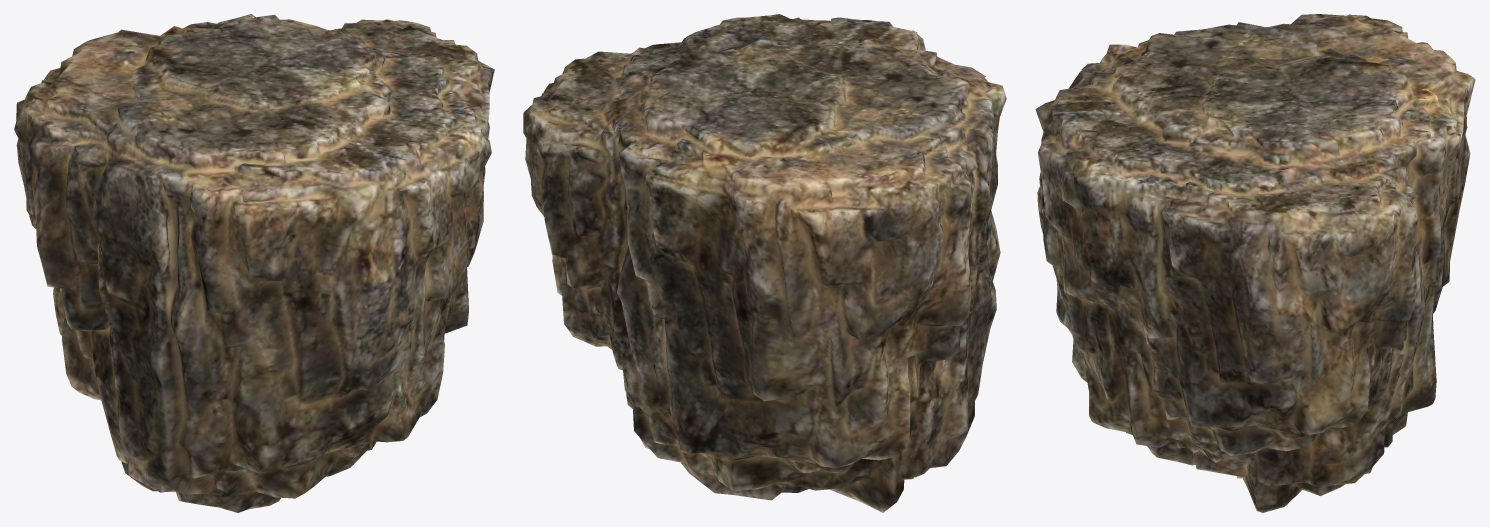
The model's file is Rock - Dark F2-CbPp9ANC.glb.
3 renders of one model, left to right at view 1: azimuth 30°, elevation 25°; view 2: azimuth 150°, elevation 25°; view 3: azimuth 270°, elevation 25°, orthographic.
Visible parts, largest first — view 1: DarkRock_F2; view 2: DarkRock_F2; view 3: DarkRock_F2.
Part boxes in pixels (<box>): DarkRock_F2: <box>14,14,494,512</box>; DarkRock_F2: <box>523,14,1006,512</box>; DarkRock_F2: <box>1035,14,1475,512</box>.
Size of the model in its own units: 6.48 by 5.72 by 5.75.
Materials: 1 (1 with a texture image).
